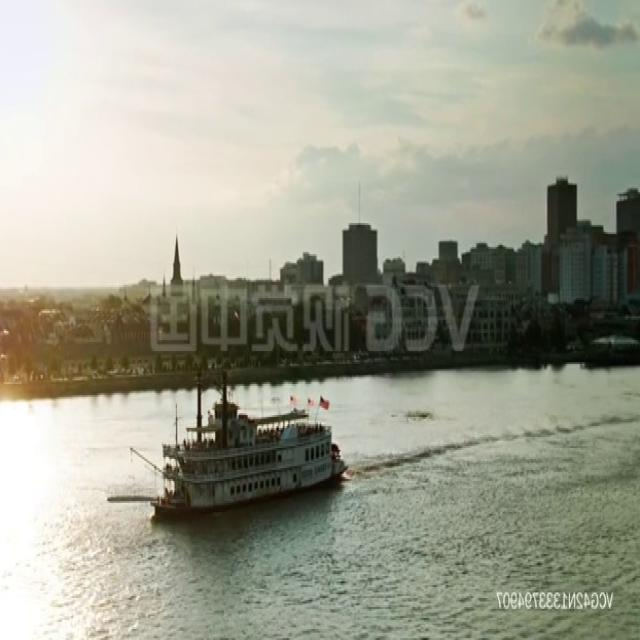passenger ship: (149, 385, 345, 521)
